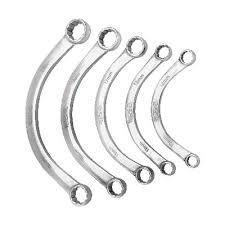wrench: (24, 17, 92, 207), (58, 25, 127, 198), (92, 34, 154, 185), (124, 42, 176, 175), (149, 48, 200, 168)
